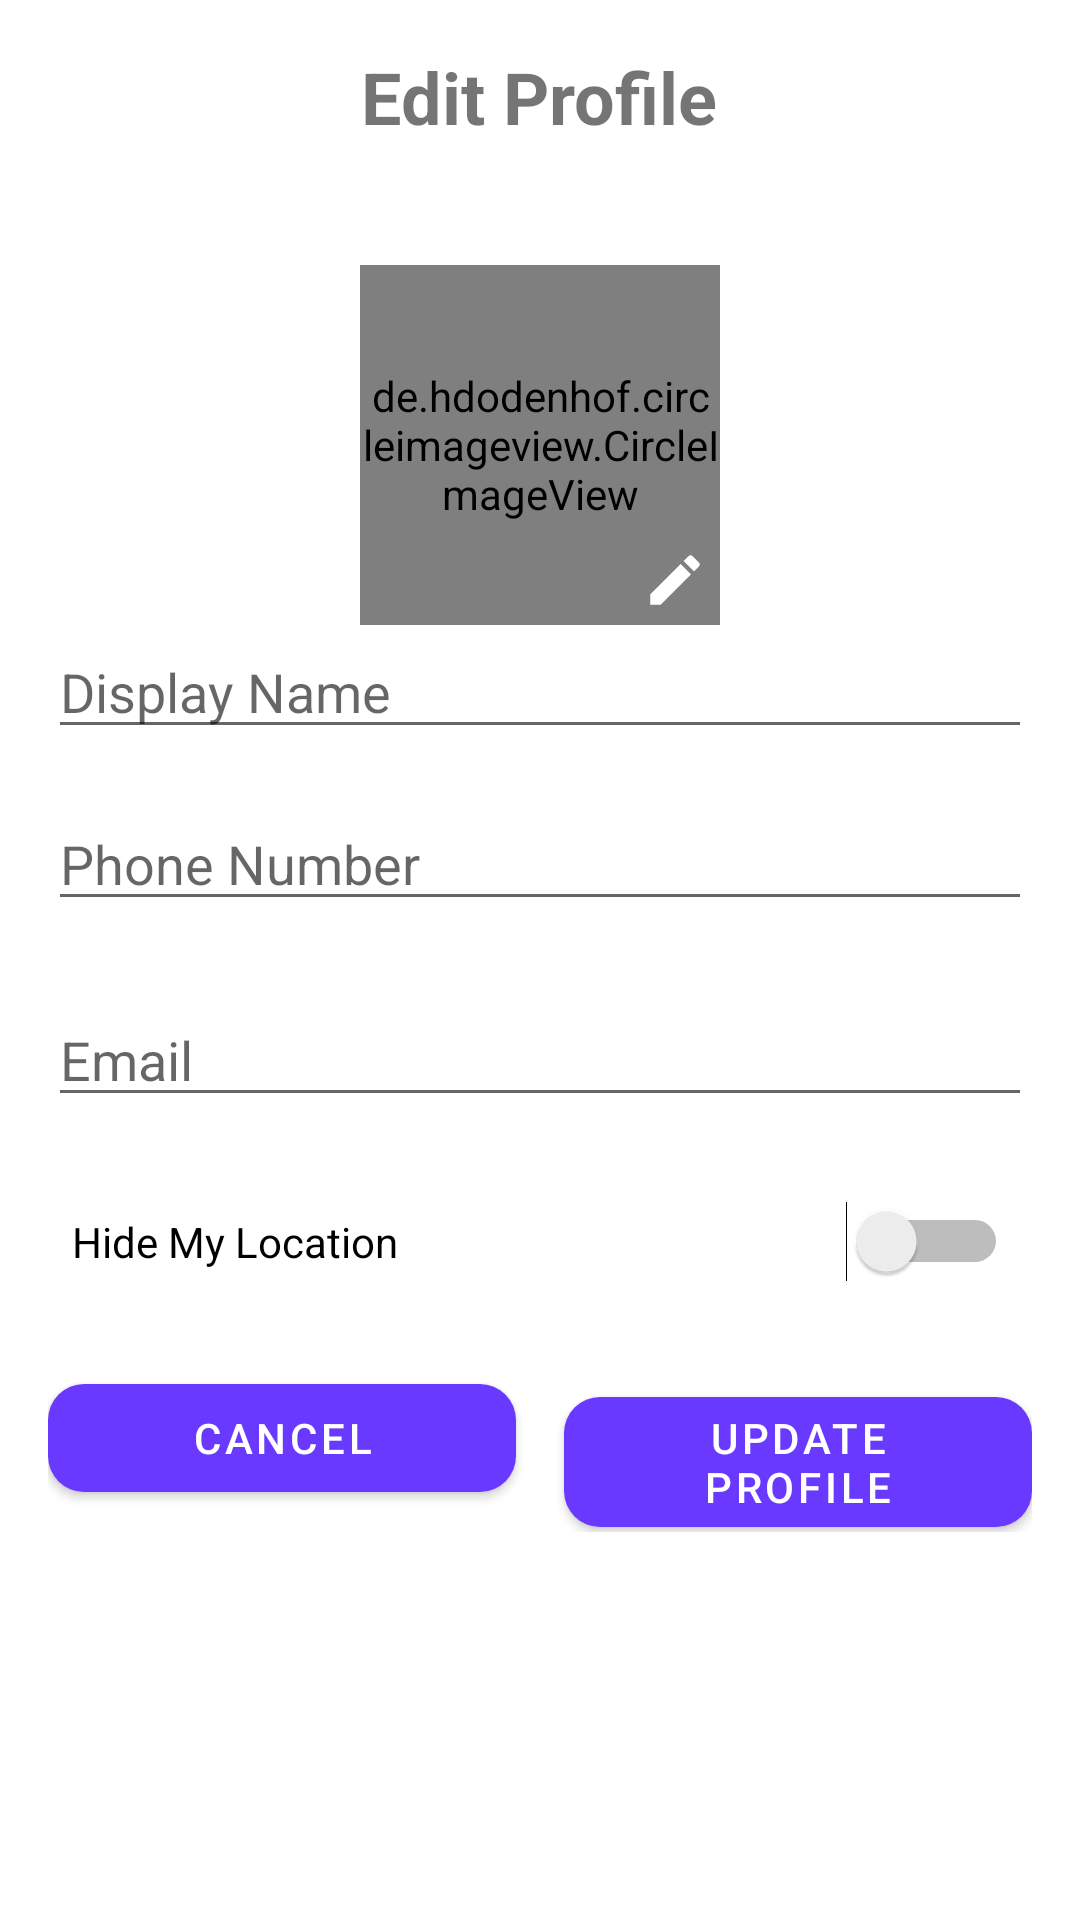

Named icons in this screenshot (1080x1920) and their bounding boxes, bbox(x1, y1, x2, y2):
edit pen: bbox(650, 555, 700, 605)
